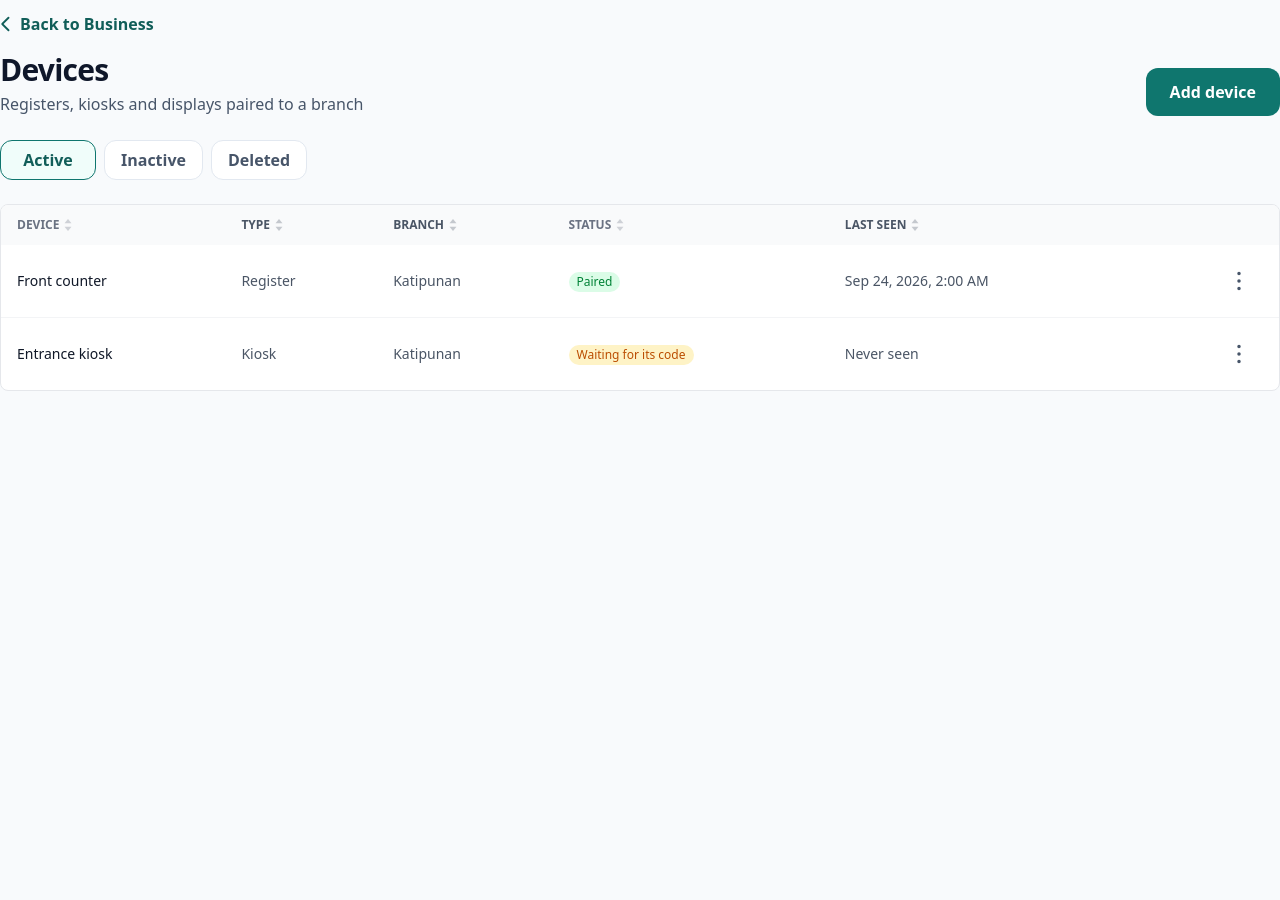
Test: DevicesPage › warns before pairing an active device again, then shows the new code
This screenshot has width=1280, height=900.
Click the button named "Actions for Front counter": coordinates (1239, 281) [1215, 257, 1263, 305]
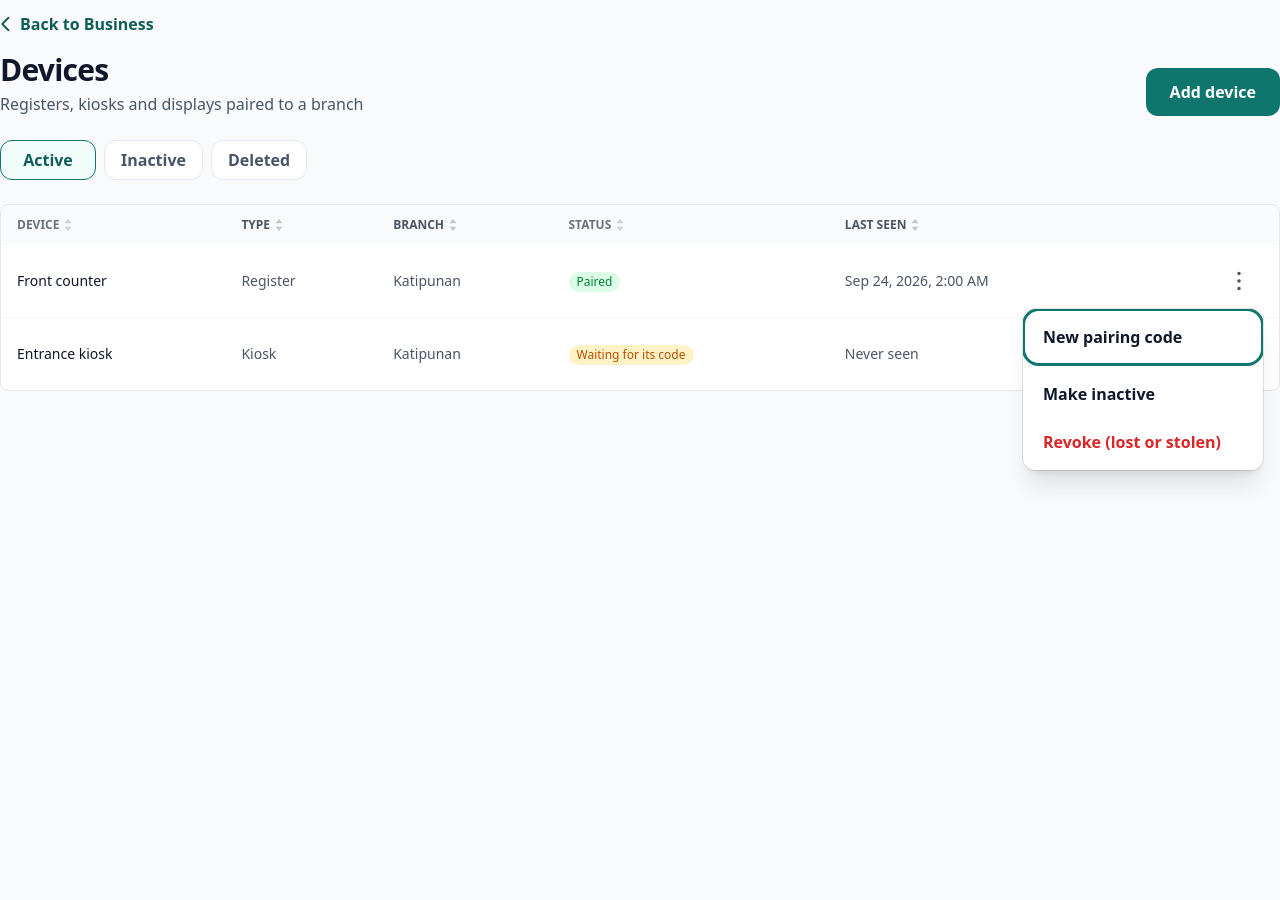
Click the menu item "New pairing code": coordinates (1143, 337) [1027, 313, 1259, 361]
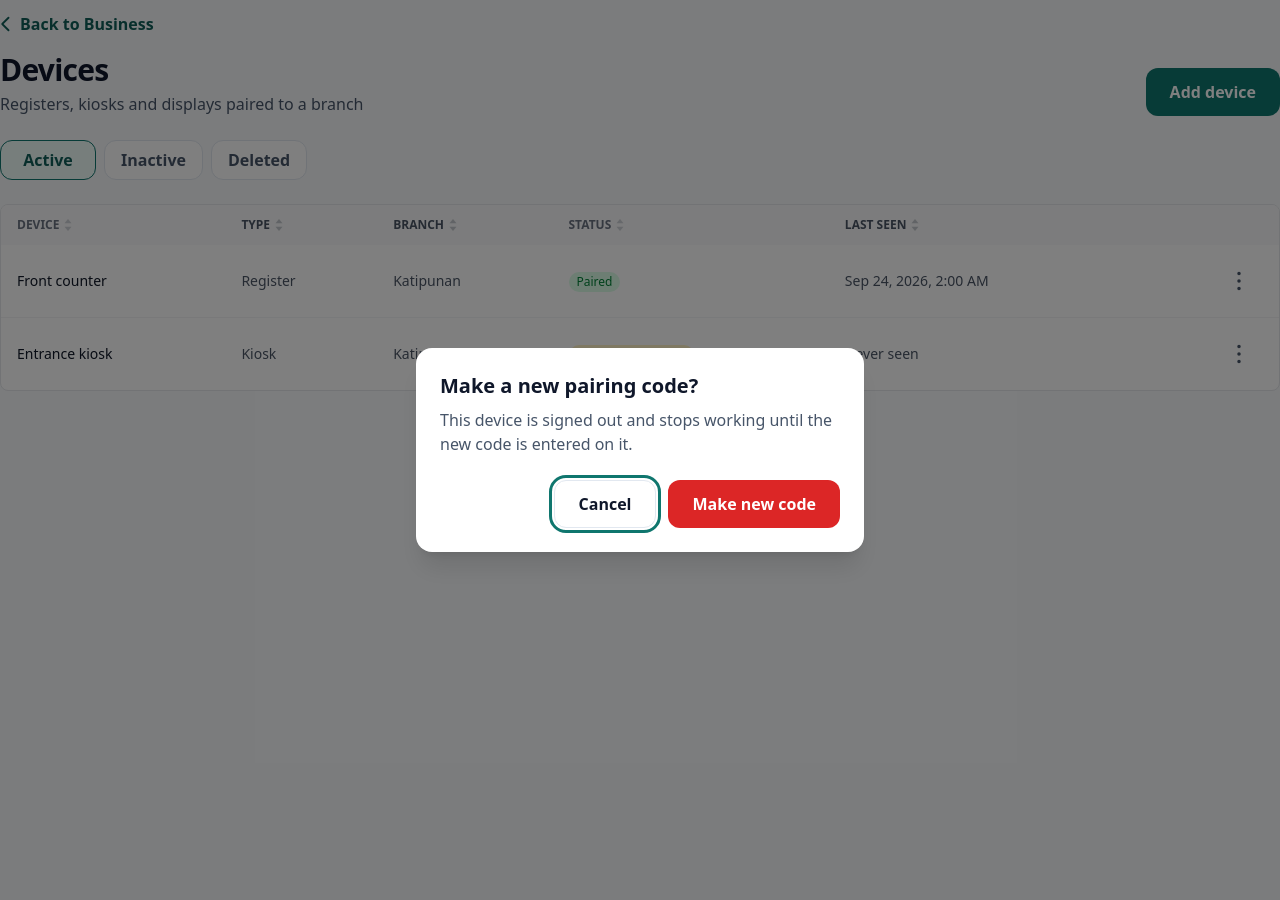
Result: the text "signed out" is shown at [440, 409, 832, 455]
Click the button "Make new code": coordinates (754, 504) [668, 480, 840, 528]
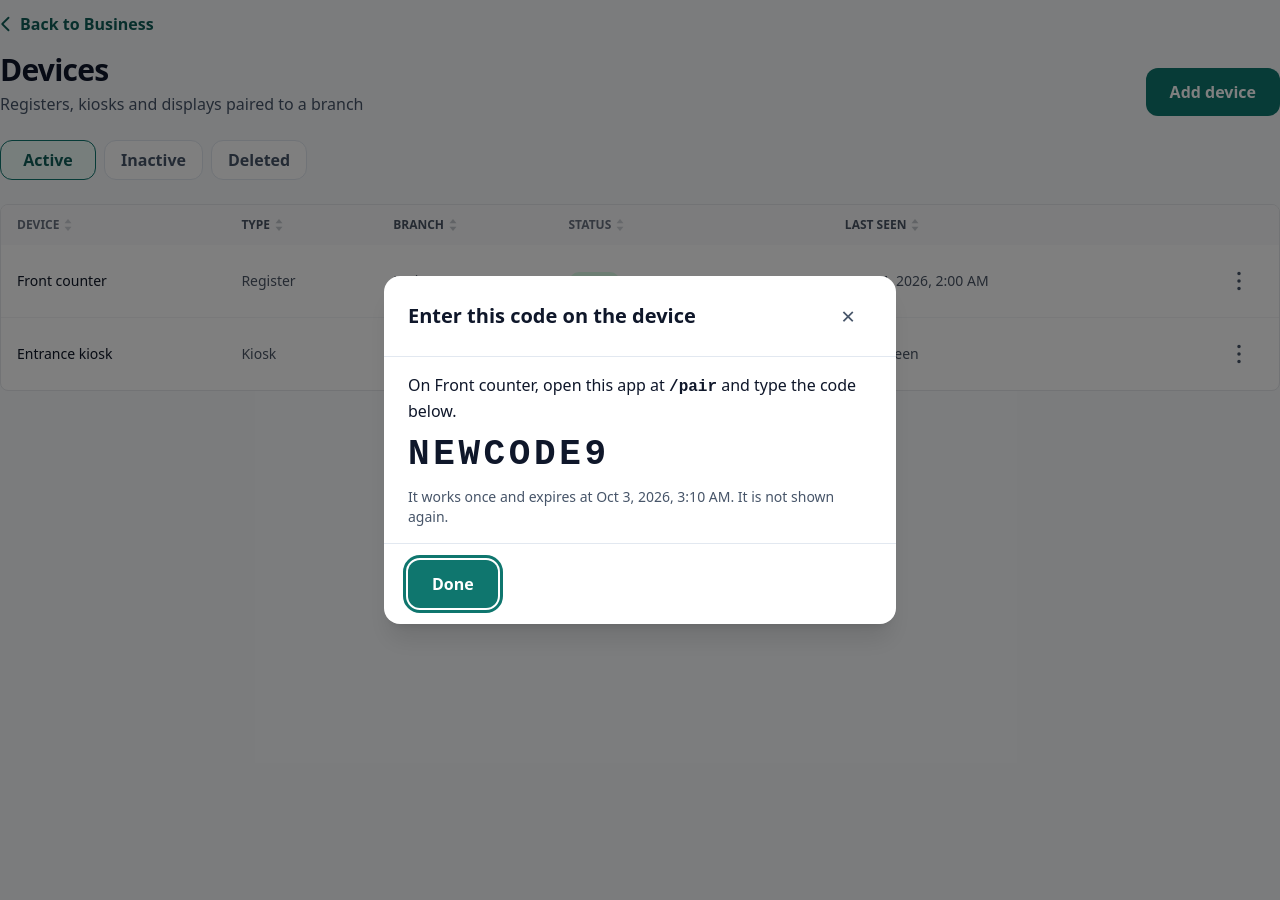
Result: the text named "Pairing code NEWCODE9" is shown at [408, 434, 610, 475]
